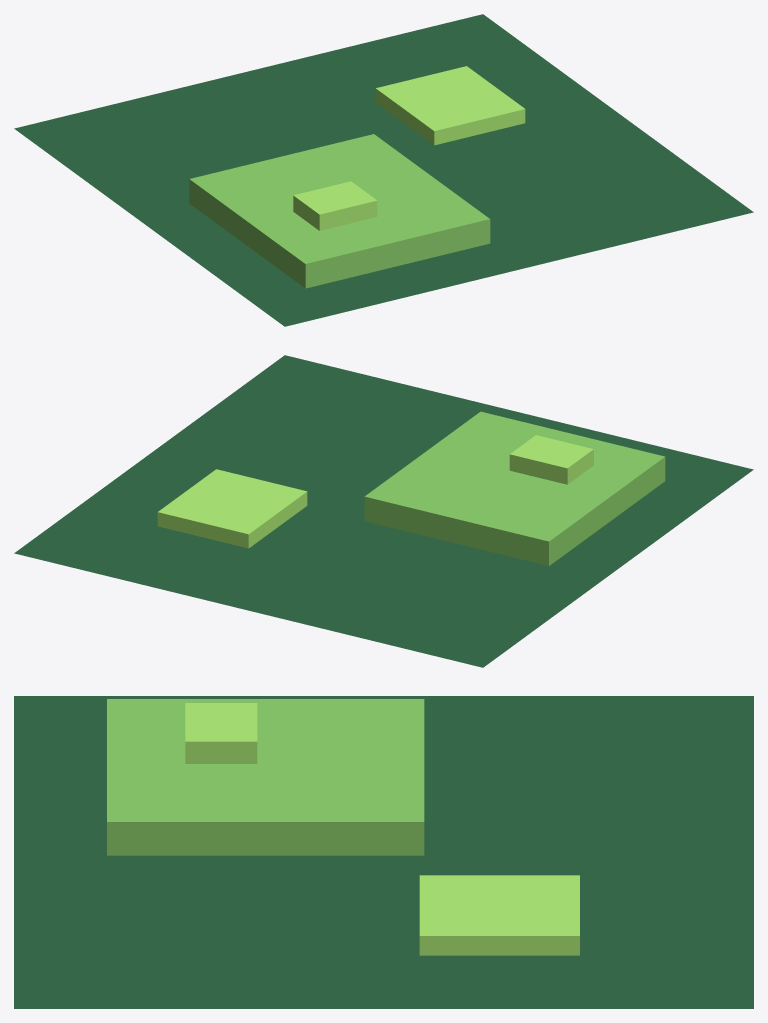
Rendered from Ground.fbx.
3 views of the same model, one above another, from view 1: azimuth 30°, elevation 25°; view 2: azimuth 150°, elevation 25°; view 3: azimuth 270°, elevation 25° (orthographic). The views are drawn at different scales.
Parts seen in each view (by area): view 1: Ground, Cube, Cube__1_, Cube__2_; view 2: Ground, Cube, Cube__1_, Cube__2_; view 3: Ground, Cube, Cube__1_, Cube__2_.
Boxes of the visible parts, x1,y1,x2,y2 form: Ground: [14, 14, 753, 326]; Cube: [189, 134, 490, 288]; Cube__1_: [375, 66, 525, 145]; Cube__2_: [293, 181, 377, 230]; Ground: [14, 355, 753, 667]; Cube: [364, 411, 665, 565]; Cube__1_: [157, 469, 307, 548]; Cube__2_: [509, 435, 593, 484]; Ground: [14, 696, 753, 1008]; Cube: [107, 699, 424, 855]; Cube__1_: [419, 875, 579, 955]; Cube__2_: [185, 703, 257, 763].
Size of the model in its own units: 3000 by 410 by 3000.
